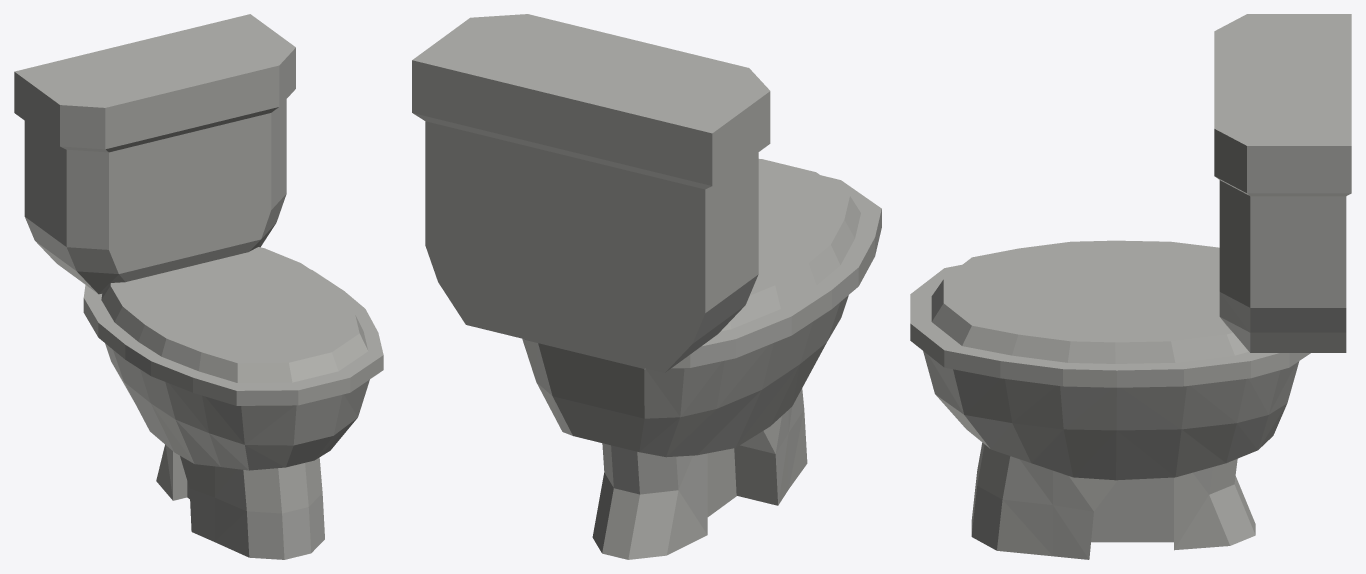
The model's file is home_bathroom_toilet.fbx.
3 renders of one model, left to right at view 1: azimuth 30°, elevation 25°; view 2: azimuth 150°, elevation 25°; view 3: azimuth 270°, elevation 25°, orthographic. The views are drawn at different scales.
Visible parts, largest first — view 1: home_bathroom_toilet_LOD0; view 2: home_bathroom_toilet_LOD0; view 3: home_bathroom_toilet_LOD0.
Boxes of the visible parts, bbox=[...] form: home_bathroom_toilet_LOD0: bbox=[14, 14, 383, 559]; home_bathroom_toilet_LOD0: bbox=[412, 14, 881, 559]; home_bathroom_toilet_LOD0: bbox=[910, 14, 1351, 559].
Size of what is drawn, in the model's own units: 0.5037 by 0.8 by 0.7119.
